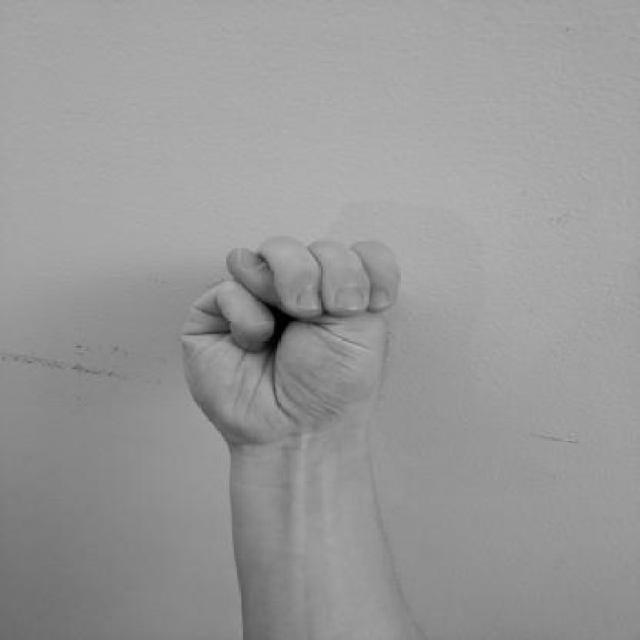M: (173, 230, 405, 442)
